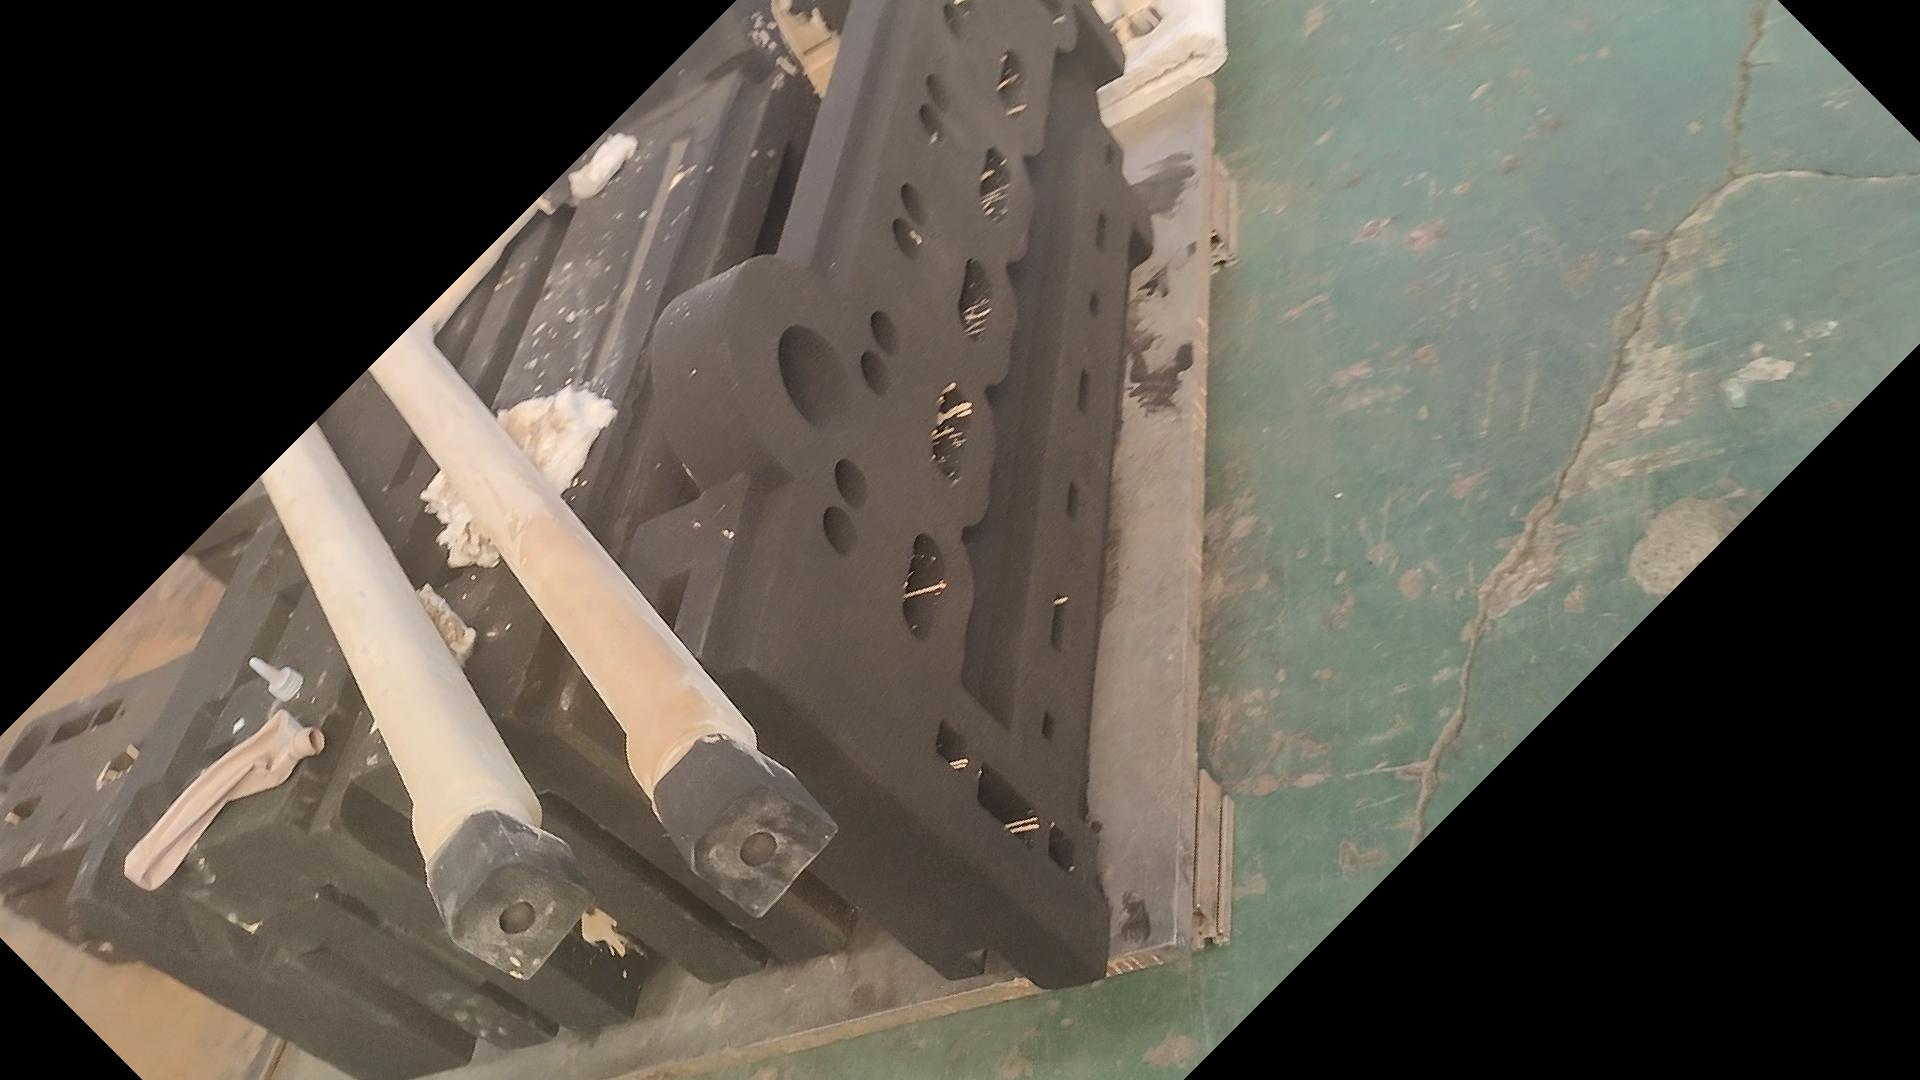pouring hole: (777, 324, 855, 430), (1, 723, 49, 774)
